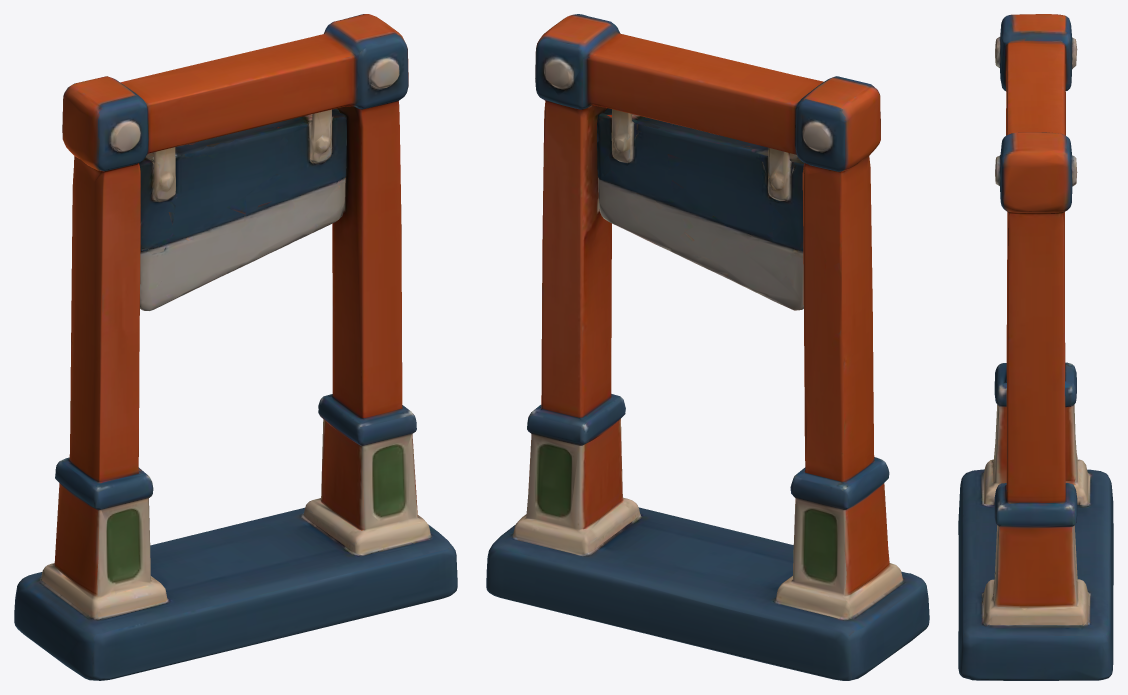
File: oracolo.glb
3 views of the same model, side by side, from view 1: azimuth 30°, elevation 25°; view 2: azimuth 150°, elevation 25°; view 3: azimuth 270°, elevation 25° (orthographic). The views are drawn at different scales.
Parts seen in each view (by area): view 1: textured_mesh.obj; view 2: textured_mesh.obj; view 3: textured_mesh.obj.
Boxes of the visible parts, box(x1,y1,x2,y2) form: textured_mesh.obj: box(14, 14, 457, 680); textured_mesh.obj: box(486, 14, 929, 680); textured_mesh.obj: box(958, 14, 1113, 680).
Size of the model in its own units: 0.7107 by 0.999 by 0.2715.
1 material, 1 textured.
